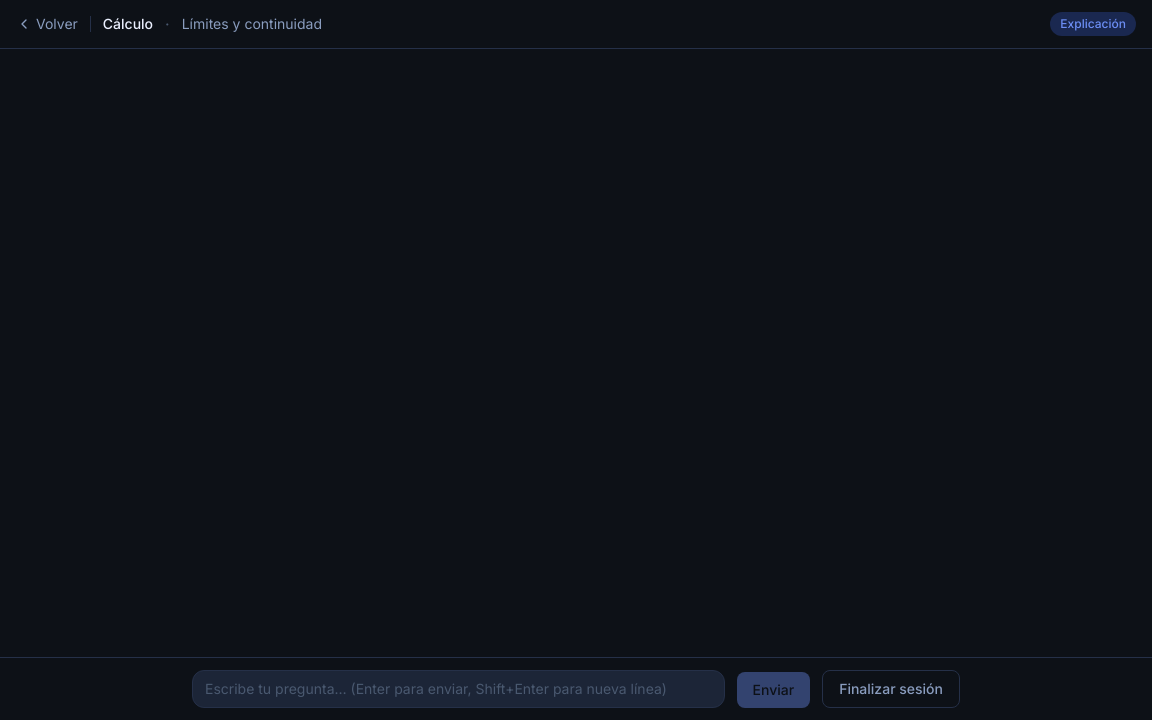
Test case: ChatSession › shows error alert when fetch fails
Type "Pregunta" into the text box.
click(458, 689); type("Pregunta")  # box [192, 670, 725, 708]
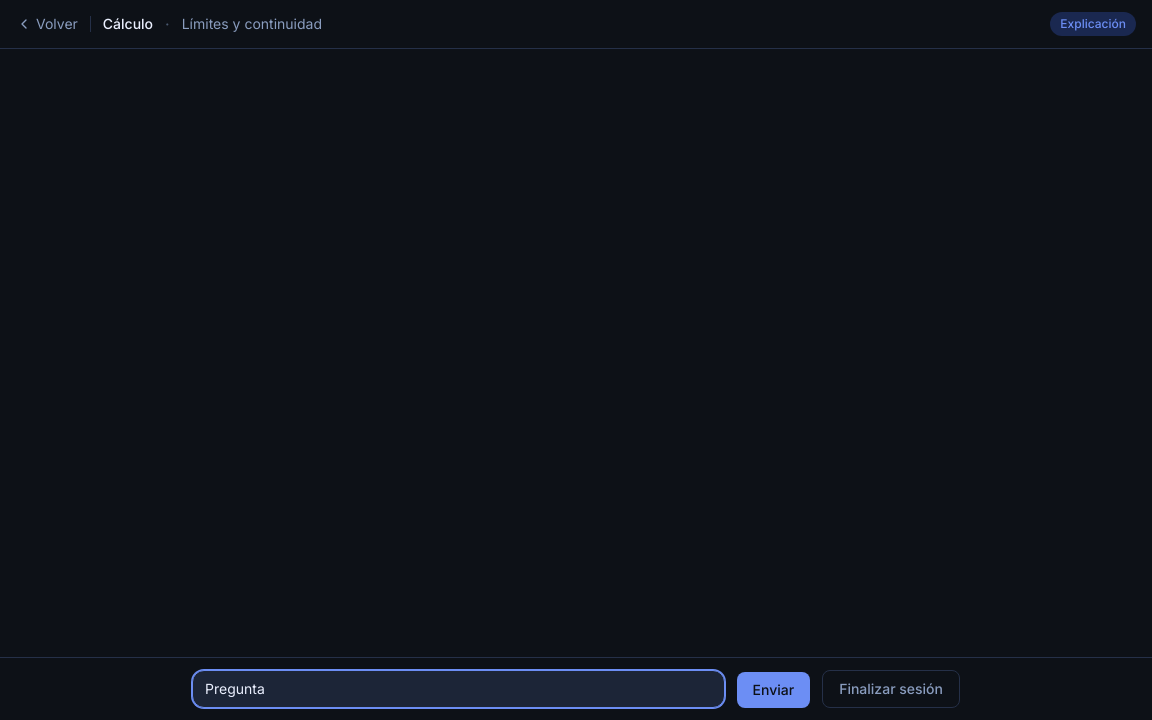
Click the button "Enviar".
click(773, 690)  # box [737, 672, 810, 708]
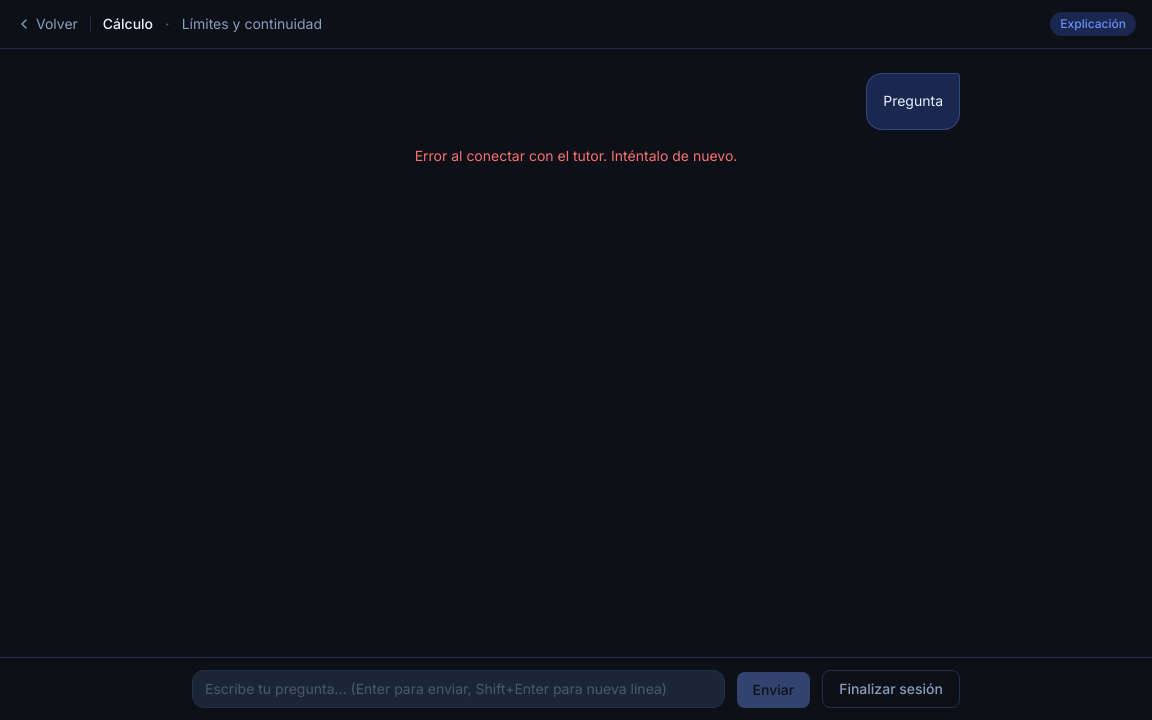
Check: the message "Error al conectar con el tutor. Inténtalo de nuevo." is shown, box [415, 147, 737, 164]
